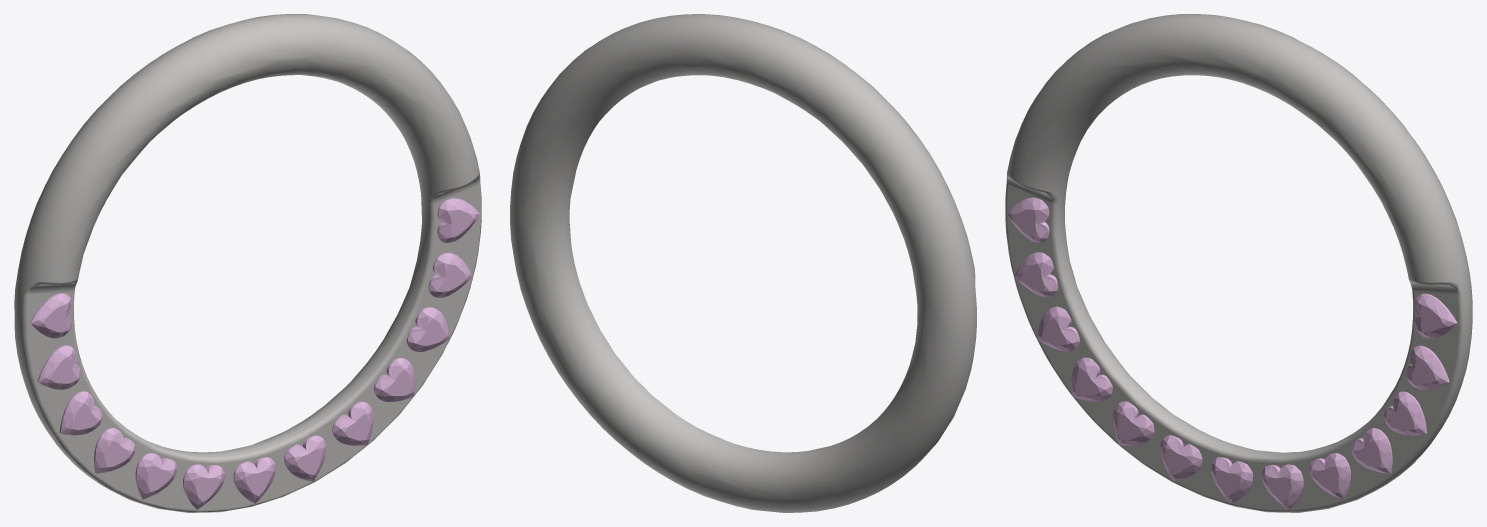
3 renders of one model, left to right at view 1: azimuth 30°, elevation 25°; view 2: azimuth 150°, elevation 25°; view 3: azimuth 330°, elevation 25°, orthographic.
Parts seen in each view (by area): view 1: Object_2; view 2: Object_2; view 3: Object_2.
Boxes of the visible parts, x1=… form: Object_2: x1=14, y1=14, x2=481, y2=512; Object_2: x1=510, y1=14, x2=976, y2=512; Object_2: x1=1005, y1=14, x2=1472, y2=512.
Bounding box in the file's own units: 0.0104 × 0.0104 × 0.0012.
